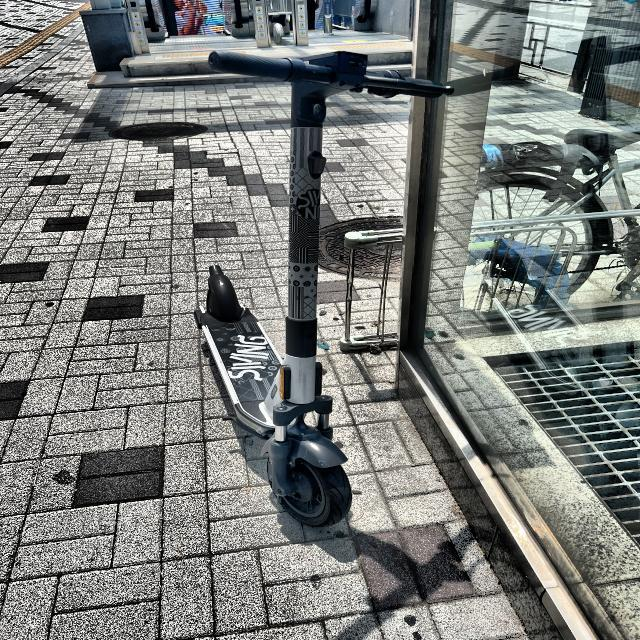bike: (193, 261, 353, 528), (470, 124, 640, 311)
